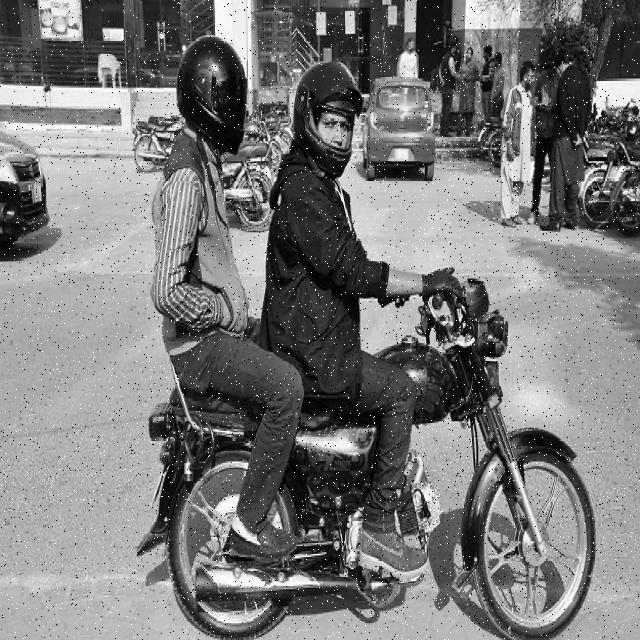Motorbike: (137, 34, 596, 640)
